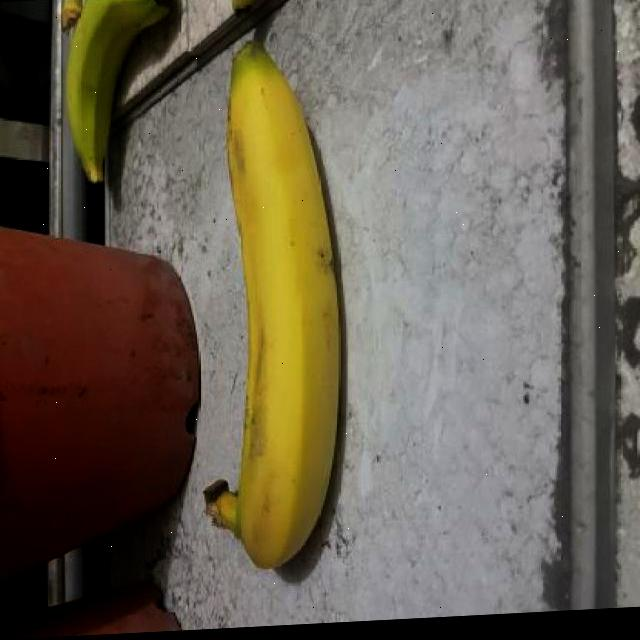banana: (198, 33, 348, 589), (50, 0, 176, 203)
